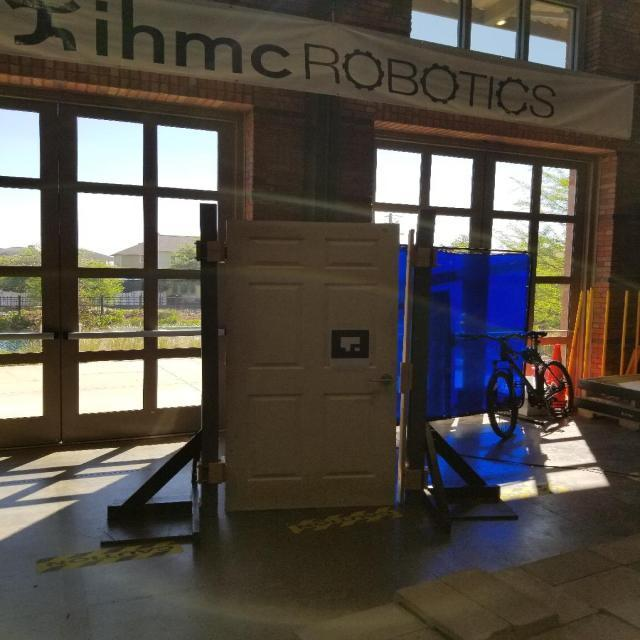door: (220, 217, 406, 514), (368, 372, 401, 387)
